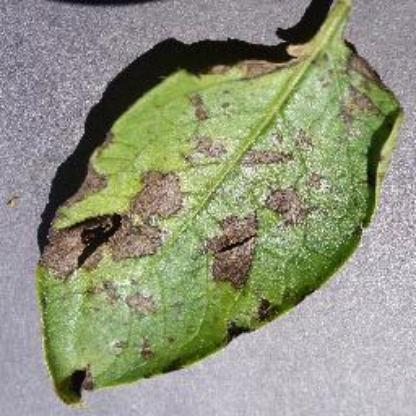Early-Blight: (34, 6, 406, 402)
